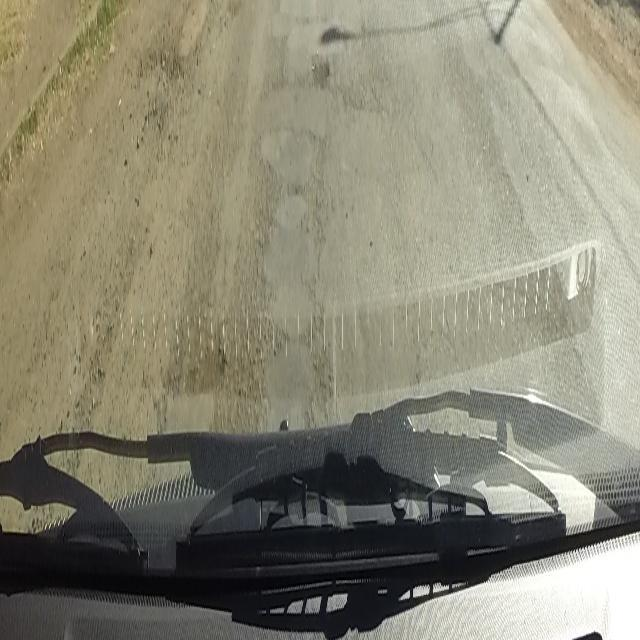pothole: (170, 326, 227, 444), (312, 56, 330, 88)
